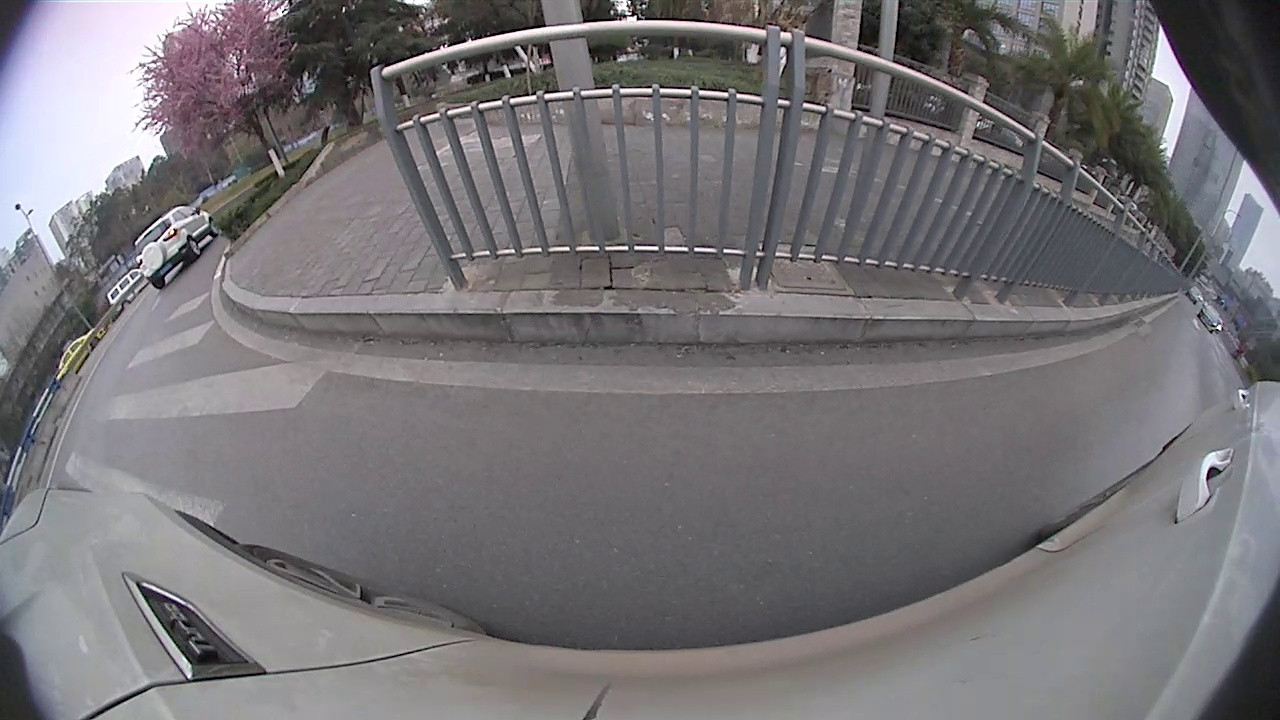car: (133, 206, 220, 290)
front: (209, 219, 222, 237)
rear: (187, 236, 202, 257)
